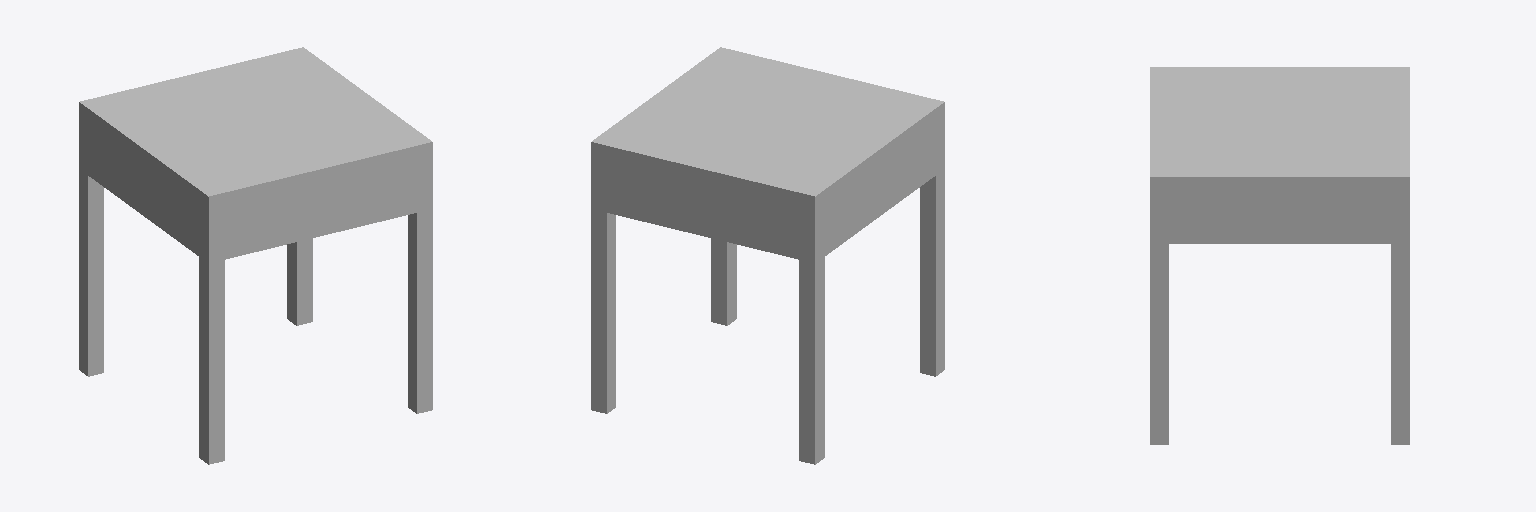
File: table.obj
3 views of the same model, side by side, from view 1: azimuth 30°, elevation 25°; view 2: azimuth 150°, elevation 25°; view 3: azimuth 270°, elevation 25° (orthographic).
Parts seen in each view (by area): view 1: object 1; view 2: object 1; view 3: object 1.
Boxes of the visible parts, x1=… form: object 1: x1=79, y1=47, x2=432, y2=464; object 1: x1=591, y1=47, x2=944, y2=464; object 1: x1=1150, y1=67, x2=1409, y2=444.
Size of the model in its own units: 1.4 by 1.6 by 1.4.